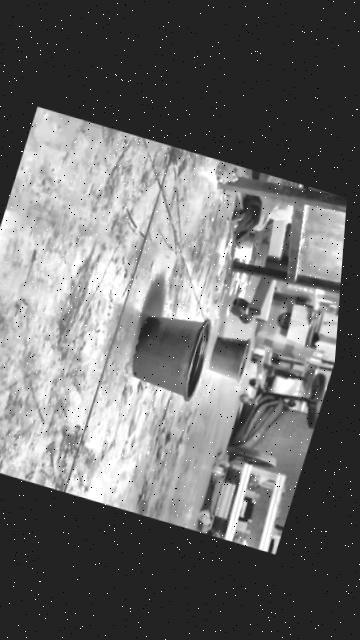pot: (124, 301, 219, 402), (205, 331, 254, 382)
